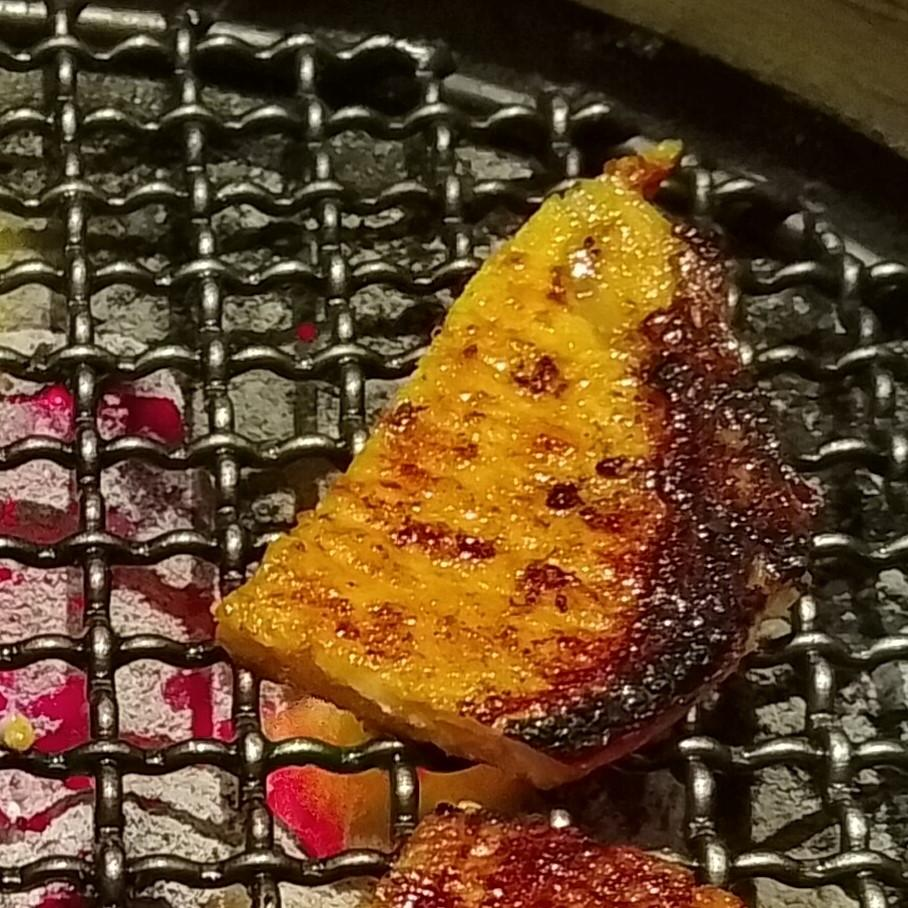Overcooked: (218, 143, 817, 787), (366, 805, 744, 907)
